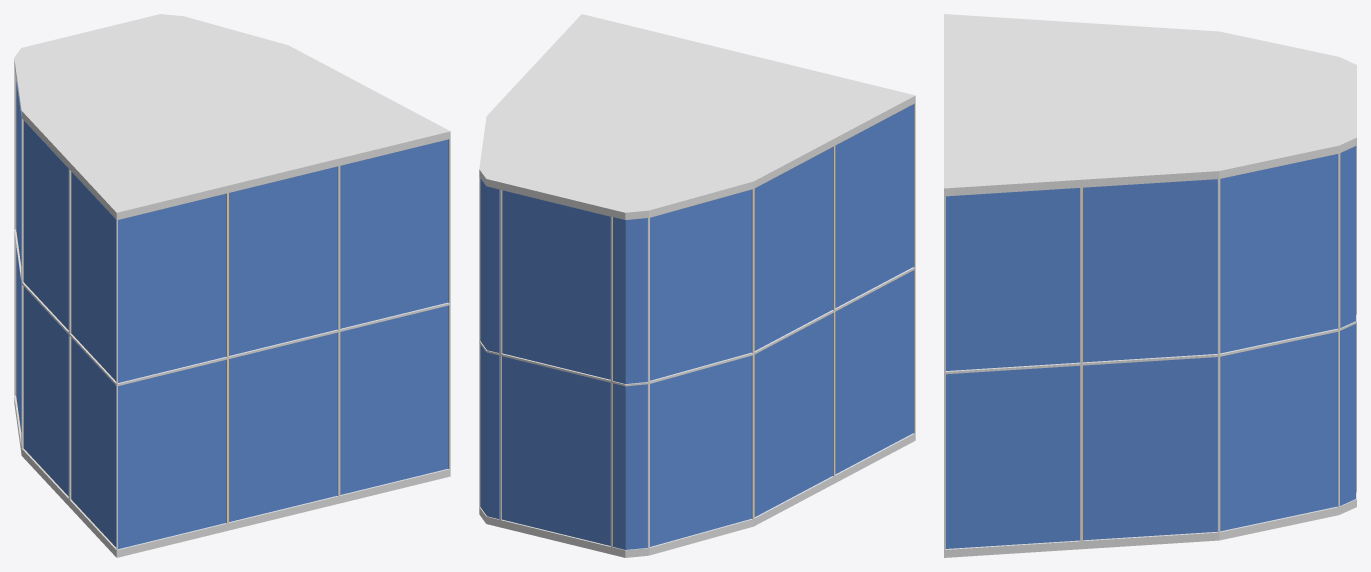
Rendered from building_1x1_11_r.glb.
3 views of the same model, side by side, from view 1: azimuth 30°, elevation 25°; view 2: azimuth 150°, elevation 25°; view 3: azimuth 270°, elevation 25° (orthographic). The views are drawn at different scales.
Visible parts, largest first — view 1: ThirdFloor; view 2: ThirdFloor; view 3: ThirdFloor.
Boxes of the visible parts, x1,y1,x2,y2 form: ThirdFloor: [14, 14, 450, 557]; ThirdFloor: [479, 14, 915, 557]; ThirdFloor: [944, 14, 1356, 557].
Size of the model in its own units: 1.64 by 1.62 by 1.64.
